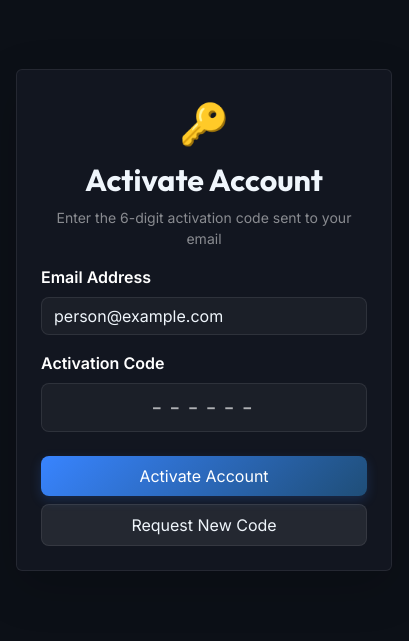
requesting a new code uses the email without claiming that delivery succeeded
This screenshot has width=409, height=641.
Click the button "Request New Code": (204, 525) top-left (41, 504), bottom-right (367, 546)
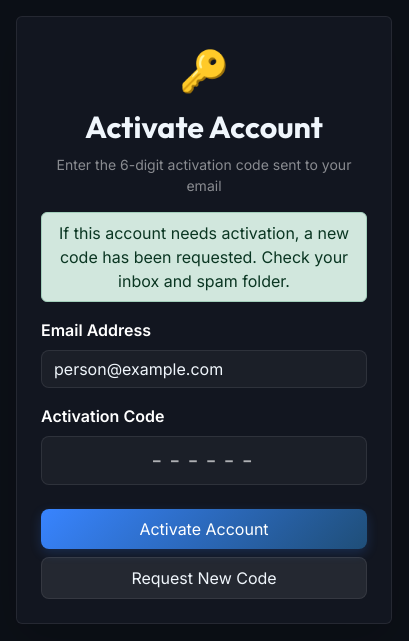
Expected: the text "If this account needs activation, a new code has been requested" is shown, top-left (59, 223), bottom-right (349, 291)
